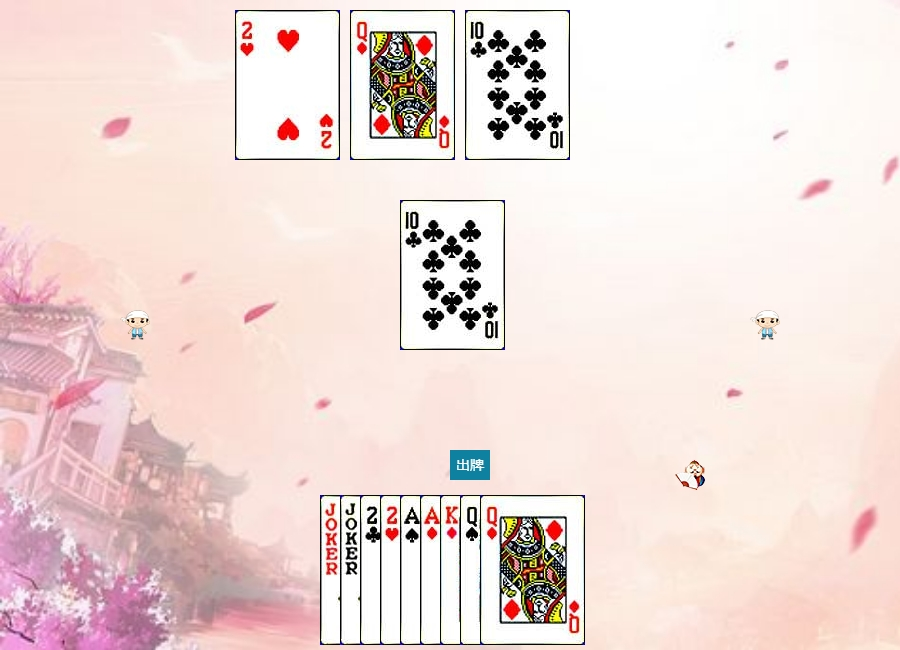10~2: (465, 10, 570, 160), (400, 200, 505, 350)
12~1: (350, 10, 455, 160), (480, 495, 585, 645)
12~4: (460, 495, 565, 645)
13~1: (440, 495, 545, 645)
14~1: (420, 495, 525, 645)
14~4: (400, 495, 505, 645)
15~2: (360, 495, 465, 645)
15~3: (235, 10, 340, 160), (380, 495, 485, 645)
17~3: (340, 495, 445, 645)
18~4: (320, 495, 425, 645)
